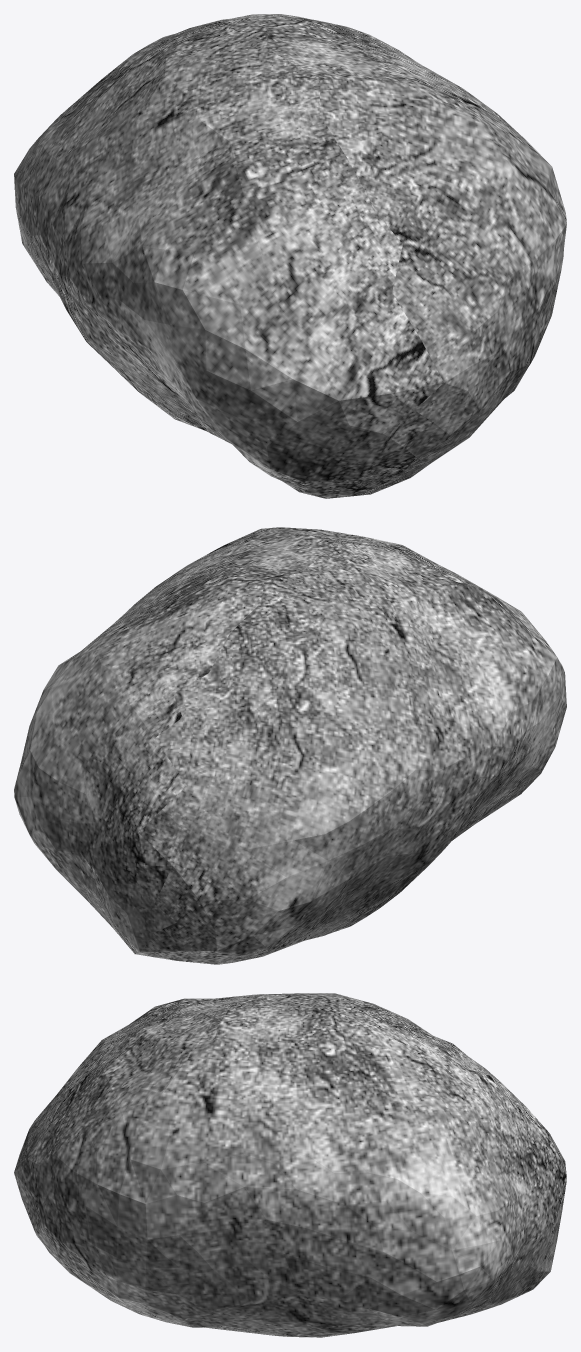
The model's file is rock-1.glb.
The picture shows the model from 3 angles, top to bottom: view 1: azimuth 30°, elevation 25°; view 2: azimuth 150°, elevation 25°; view 3: azimuth 270°, elevation 25°; orthographic projection. The views are drawn at different scales.
Visible parts, largest first — view 1: Icosphere.001; view 2: Icosphere.001; view 3: Icosphere.001.
Part boxes in pixels (bbox=[...]): Icosphere.001: bbox=[14, 14, 566, 498]; Icosphere.001: bbox=[14, 527, 566, 964]; Icosphere.001: bbox=[14, 993, 566, 1337].
Bounding box in the file's own units: 2.58 × 2.18 × 3.55.
2 materials, 2 textured.
